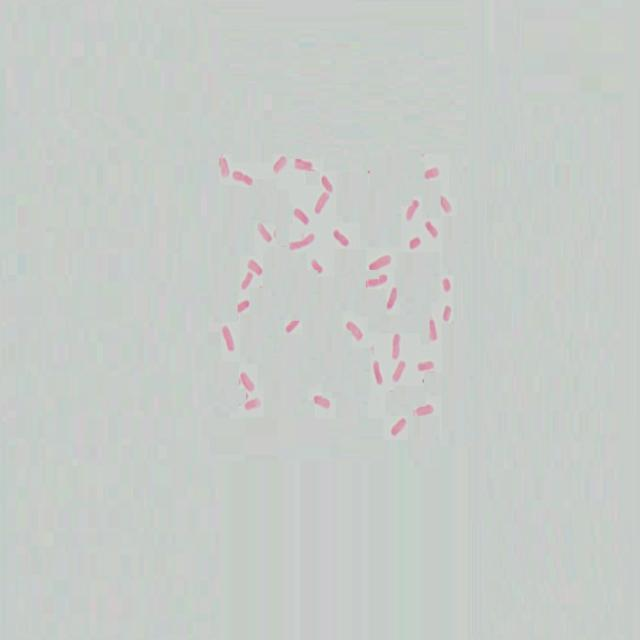E-coli: (282, 231, 316, 249), (310, 388, 335, 412), (219, 323, 237, 354), (231, 170, 260, 189), (368, 250, 392, 271), (238, 369, 258, 393), (346, 319, 365, 344), (293, 152, 315, 173), (215, 151, 229, 183), (415, 358, 440, 375), (332, 226, 349, 250), (370, 355, 383, 386), (390, 360, 408, 382), (254, 220, 271, 243), (388, 416, 408, 435), (414, 398, 435, 416), (291, 205, 309, 226), (311, 255, 326, 280), (436, 193, 453, 215), (424, 317, 439, 341), (248, 255, 268, 273), (272, 155, 289, 176), (422, 216, 438, 238), (242, 396, 264, 412), (421, 161, 439, 180), (391, 327, 402, 358), (406, 197, 419, 222), (236, 272, 253, 290), (387, 284, 397, 313), (405, 235, 421, 253), (441, 301, 453, 324), (440, 274, 453, 295), (283, 318, 302, 332), (367, 274, 386, 287), (320, 174, 333, 193), (314, 190, 325, 212), (233, 300, 252, 311)
